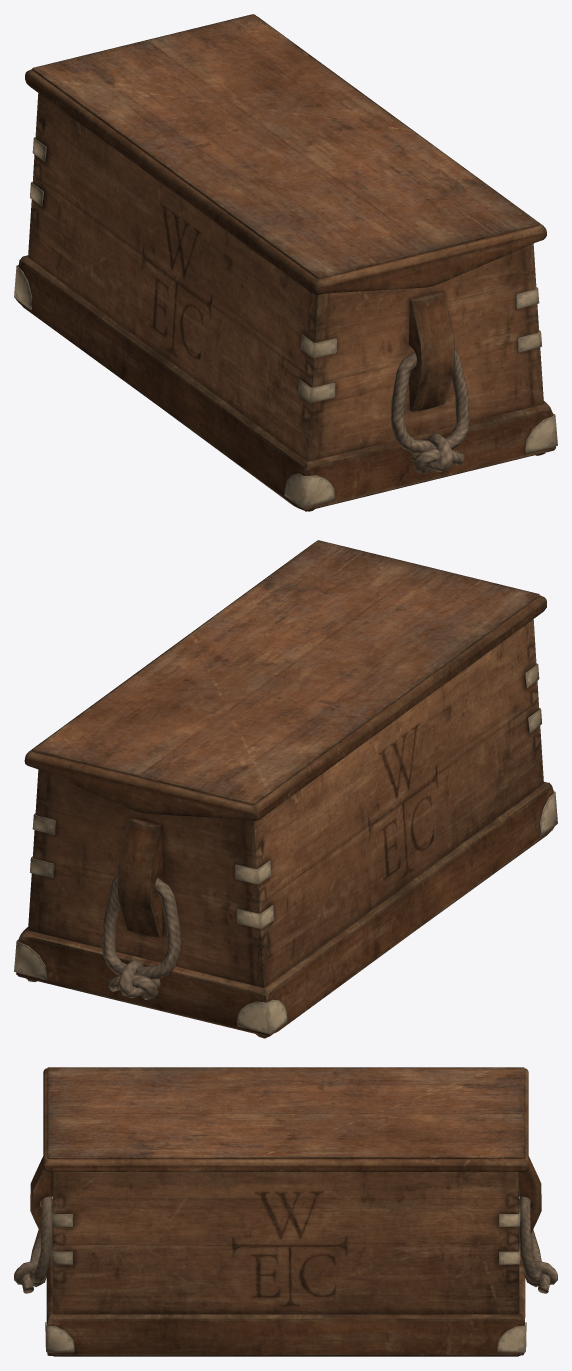
Rendered from wooden_crate_02.glb.
The picture shows the model from 3 angles, top to bottom: view 1: azimuth 30°, elevation 25°; view 2: azimuth 150°, elevation 25°; view 3: azimuth 270°, elevation 25°; orthographic projection. The views are drawn at different scales.
Visible parts, largest first — view 1: wooden_crate_02_crate, wooden_crate_02_lid; view 2: wooden_crate_02_crate, wooden_crate_02_lid; view 3: wooden_crate_02_crate, wooden_crate_02_lid.
Boxes of the visible parts, x1=… form: wooden_crate_02_crate: x1=14, y1=93, x2=557, y2=511; wooden_crate_02_lid: x1=25, y1=14, x2=546, y2=294; wooden_crate_02_crate: x1=14, y1=619, x2=557, y2=1038; wooden_crate_02_lid: x1=24, y1=540, x2=546, y2=820; wooden_crate_02_crate: x1=14, y1=1156, x2=557, y2=1356; wooden_crate_02_lid: x1=43, y1=1067, x2=528, y2=1171.
Size of the model in its own units: 0.5291 by 0.464 by 1.17.
1 material, 1 textured.
